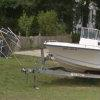Boat: (40, 32, 100, 77)
